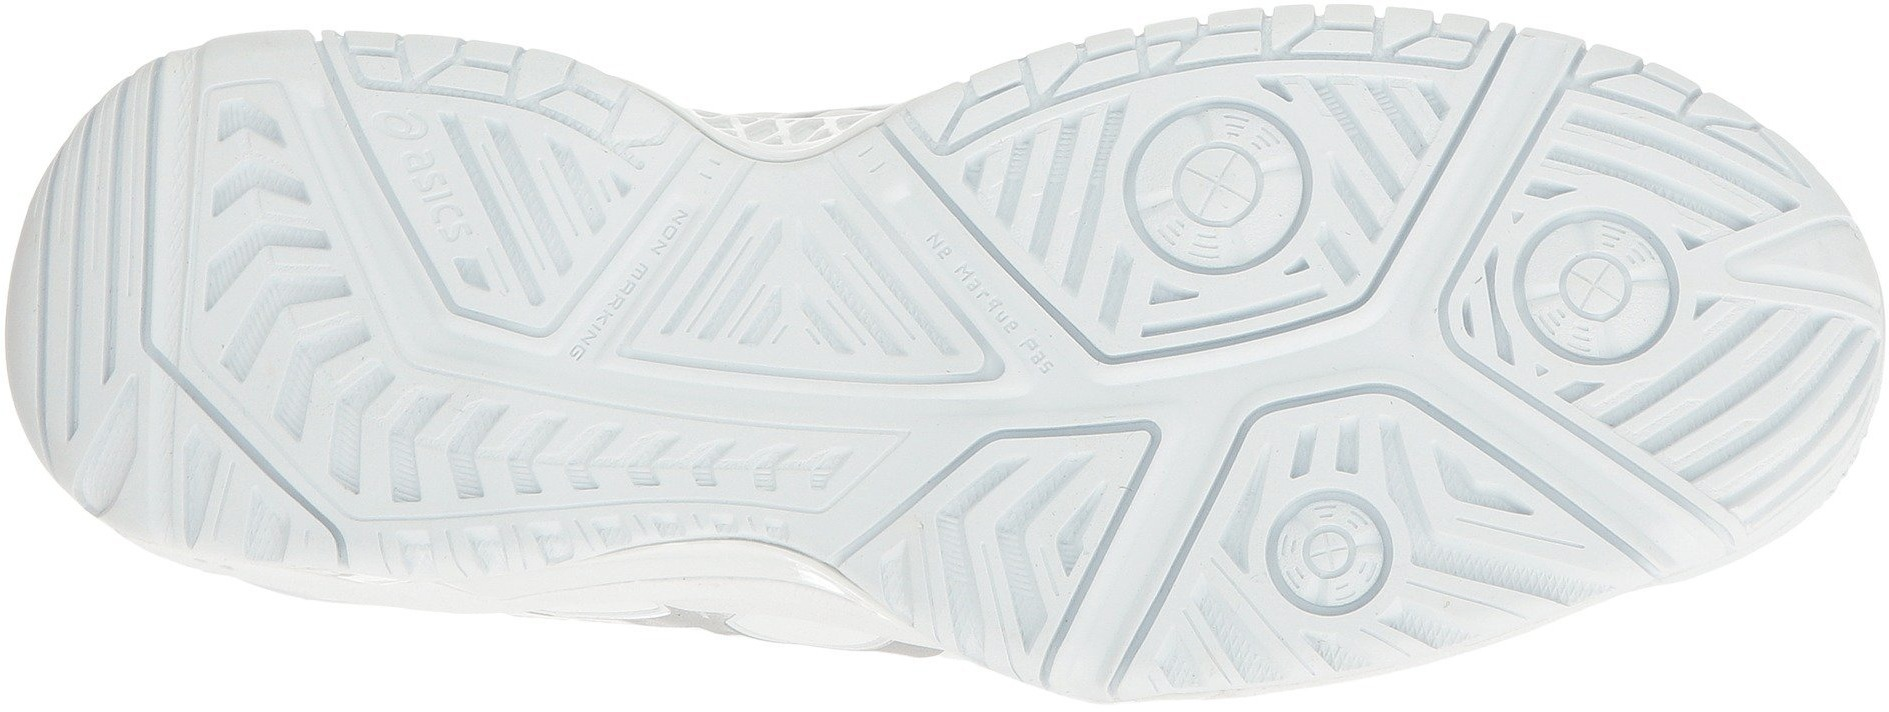chevron: (206, 258, 389, 441), (439, 386, 579, 520), (204, 105, 337, 242)
quad: (1685, 331, 1838, 489), (27, 192, 153, 351)
text: (984, 290, 1053, 357), (922, 220, 975, 284)
